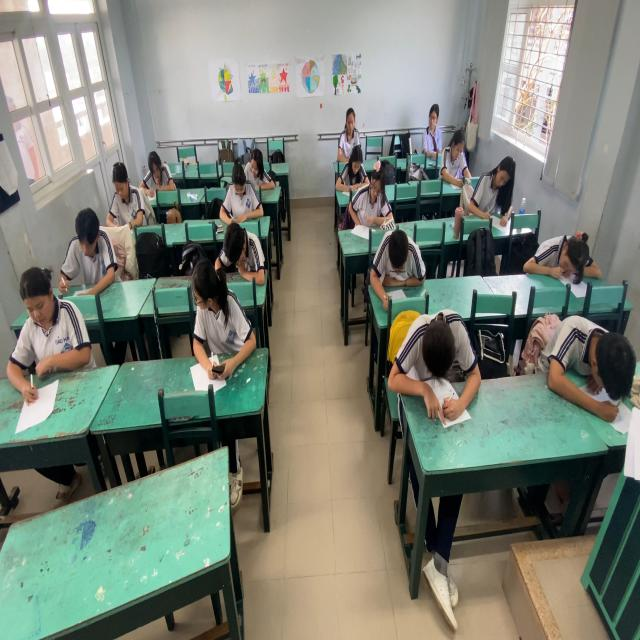cheating: (187, 257, 241, 377)
not_cheating: (6, 261, 84, 377), (394, 309, 481, 405), (540, 294, 624, 391), (520, 216, 604, 284), (370, 226, 426, 292), (66, 216, 117, 288), (101, 160, 142, 233), (477, 153, 525, 215), (210, 219, 260, 274), (351, 167, 395, 218), (434, 125, 470, 184), (141, 136, 175, 195), (224, 160, 263, 211), (338, 105, 366, 153), (422, 95, 443, 153), (246, 153, 274, 191), (348, 146, 364, 188)
